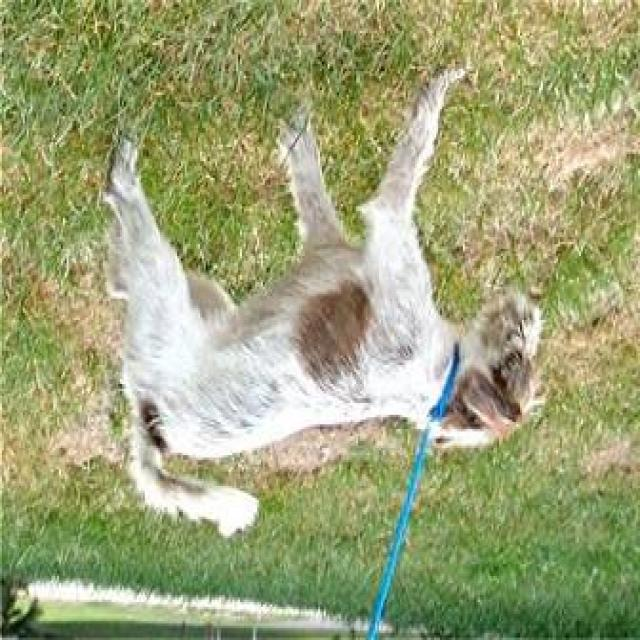dog: (90, 62, 556, 554)
